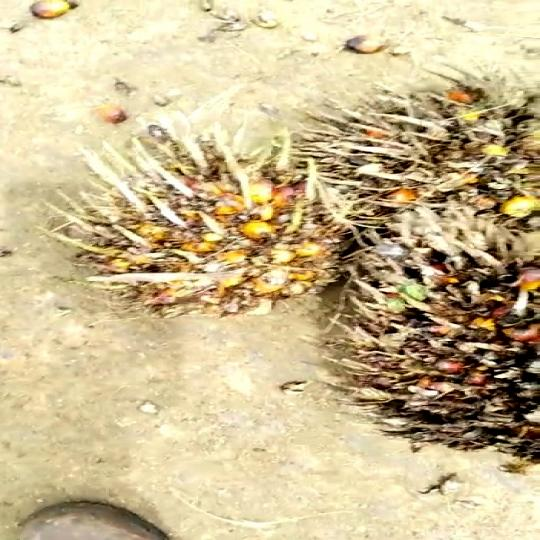terlalu masak: (65, 130, 352, 310)
